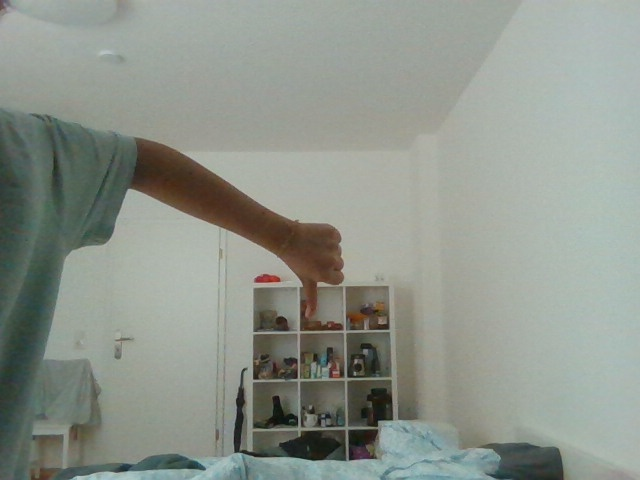Thumbs down: (280, 198, 374, 323)
